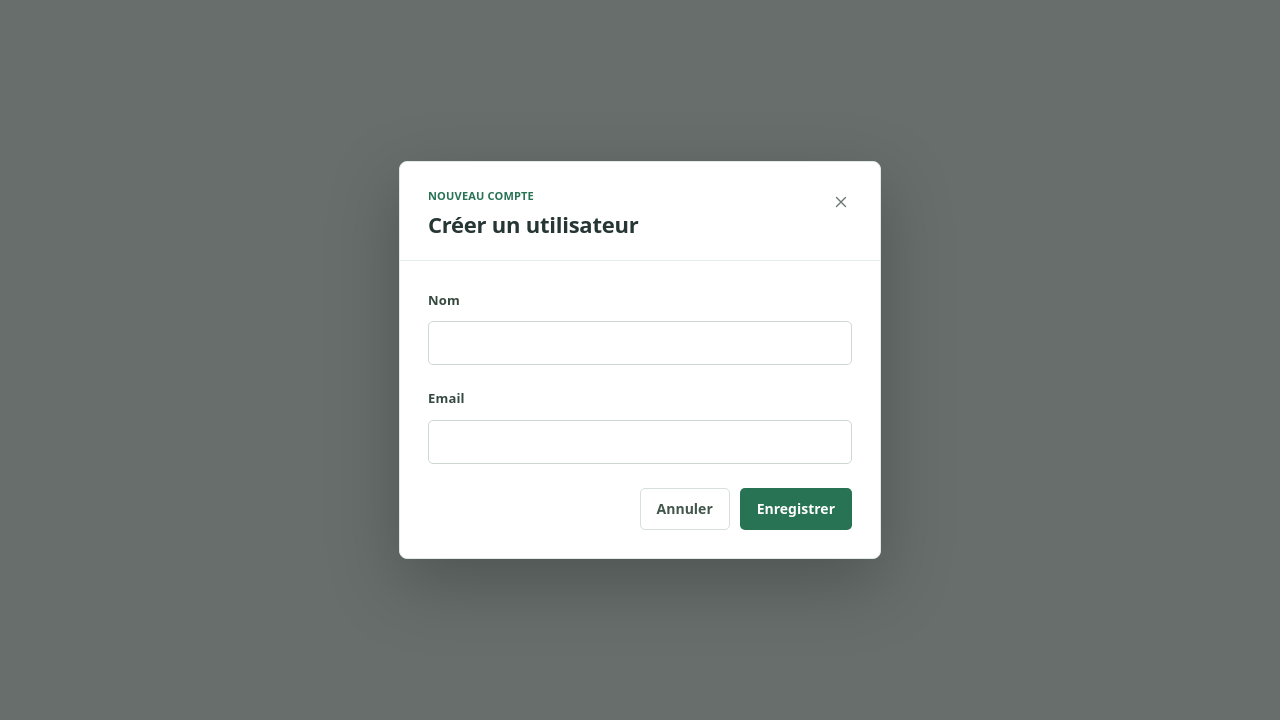
Test case: UserCreateModal › signale un nom vide sans appeler l’API
In the field with id "create-user-email": (640, 442) [428, 420, 852, 464], type "karim@example.com"
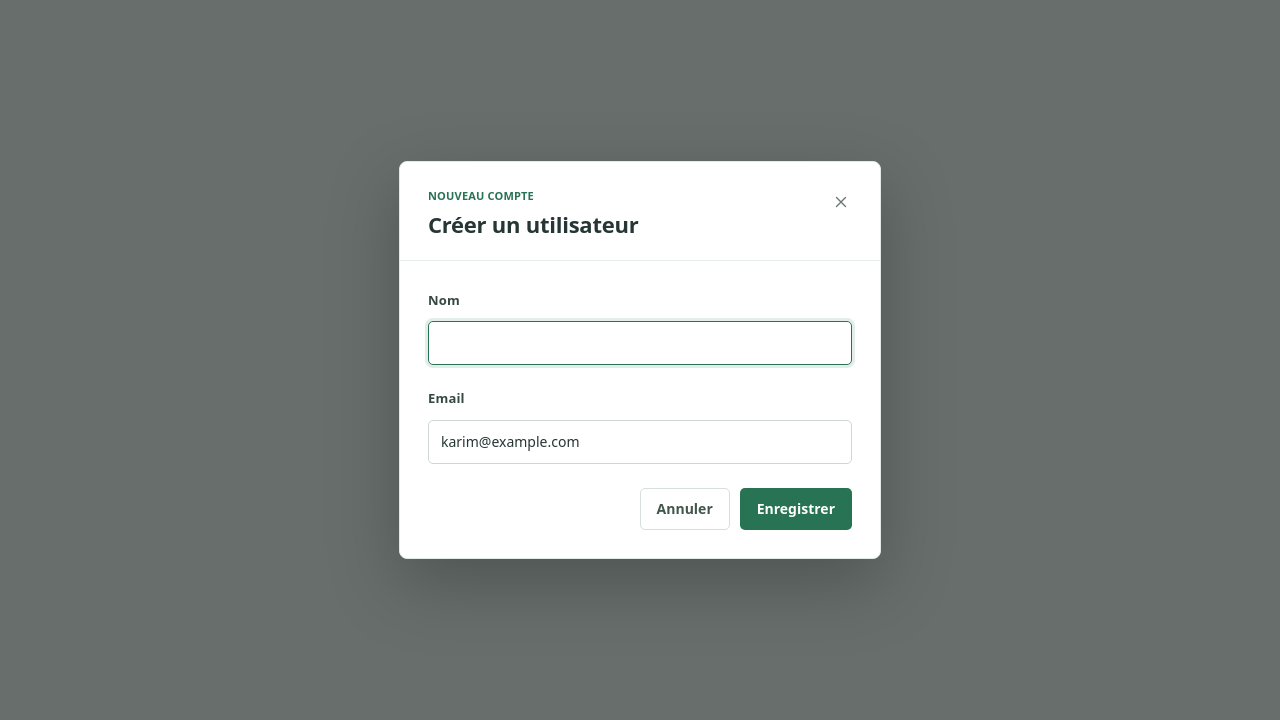
Submit the form with class "create-form", box [400, 261, 880, 558]
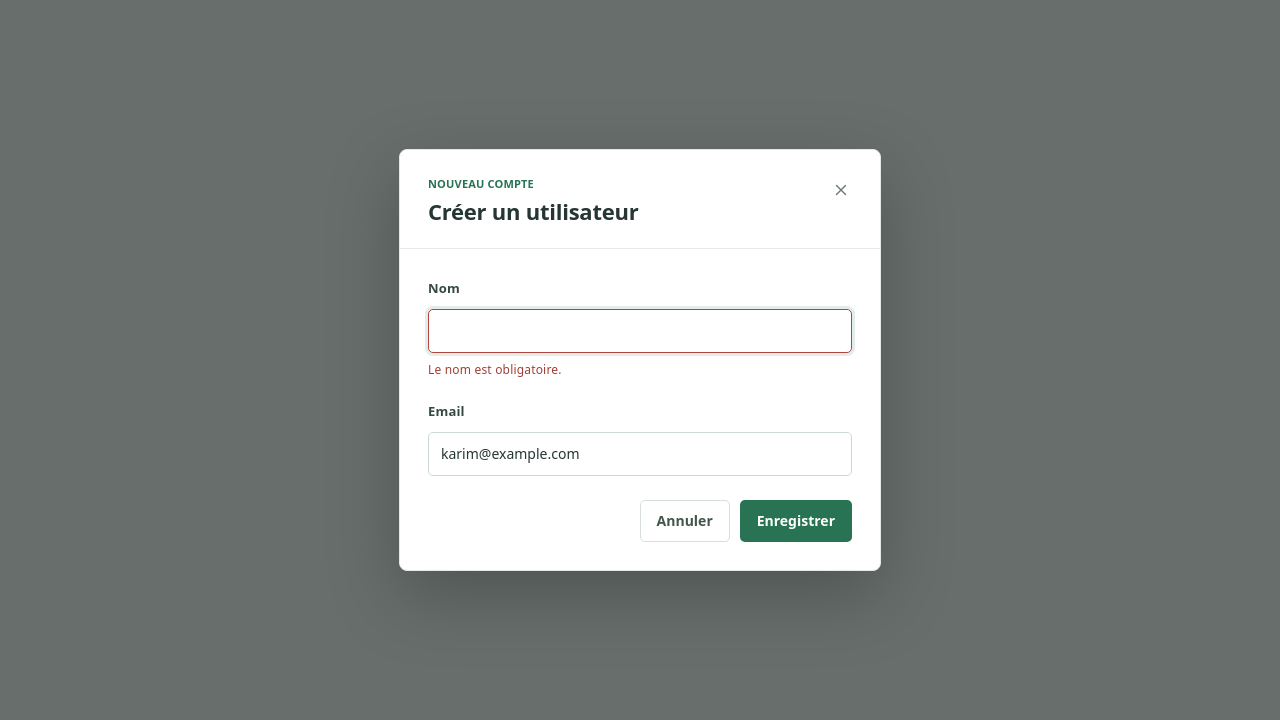
Now the text "Le nom est obligatoire." is shown, box [428, 361, 562, 378]
